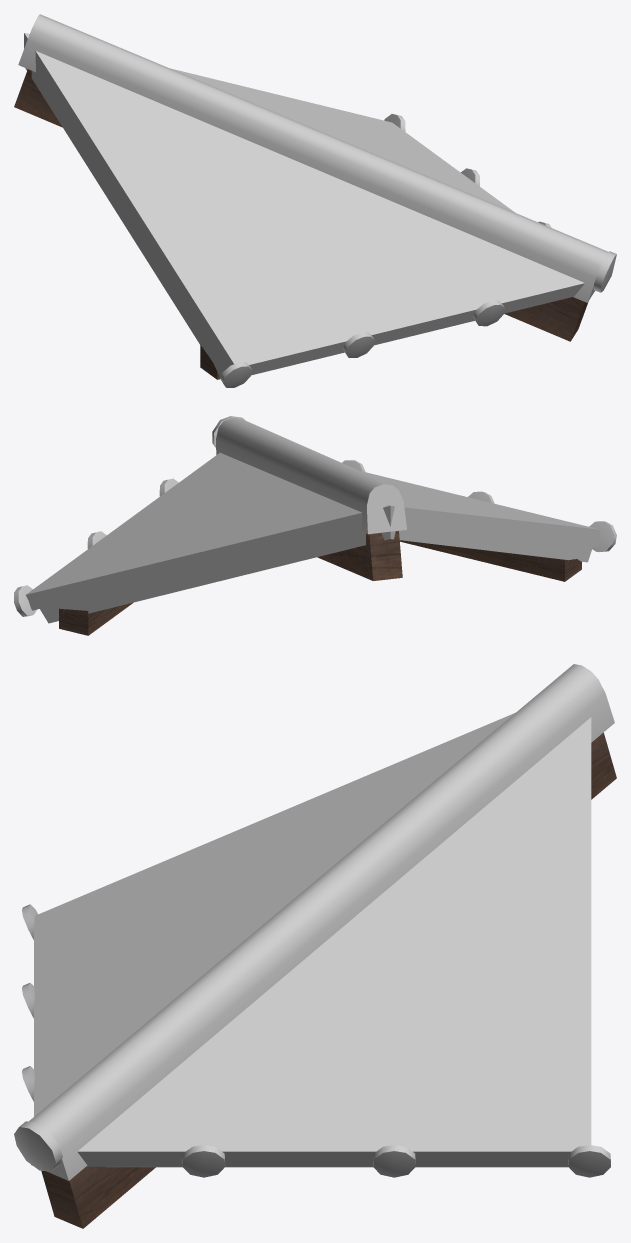
Rendered from kawara_2x1t_a1corner_vex.fbx.
3 views of the same model, one above another, from view 1: azimuth 30°, elevation 25°; view 2: azimuth 150°, elevation 25°; view 3: azimuth 270°, elevation 25° (orthographic). The views are drawn at different scales.
Visible parts, largest first — view 1: kawara_2x1t_a1corner_vex; view 2: kawara_2x1t_a1corner_vex; view 3: kawara_2x1t_a1corner_vex.
Boxes of the visible parts, x1,y1,x2,y2 form: kawara_2x1t_a1corner_vex: [14, 14, 616, 387]; kawara_2x1t_a1corner_vex: [14, 416, 616, 635]; kawara_2x1t_a1corner_vex: [14, 664, 616, 1228].
Bounding box in the file's own units: 174 × 108 × 173.
